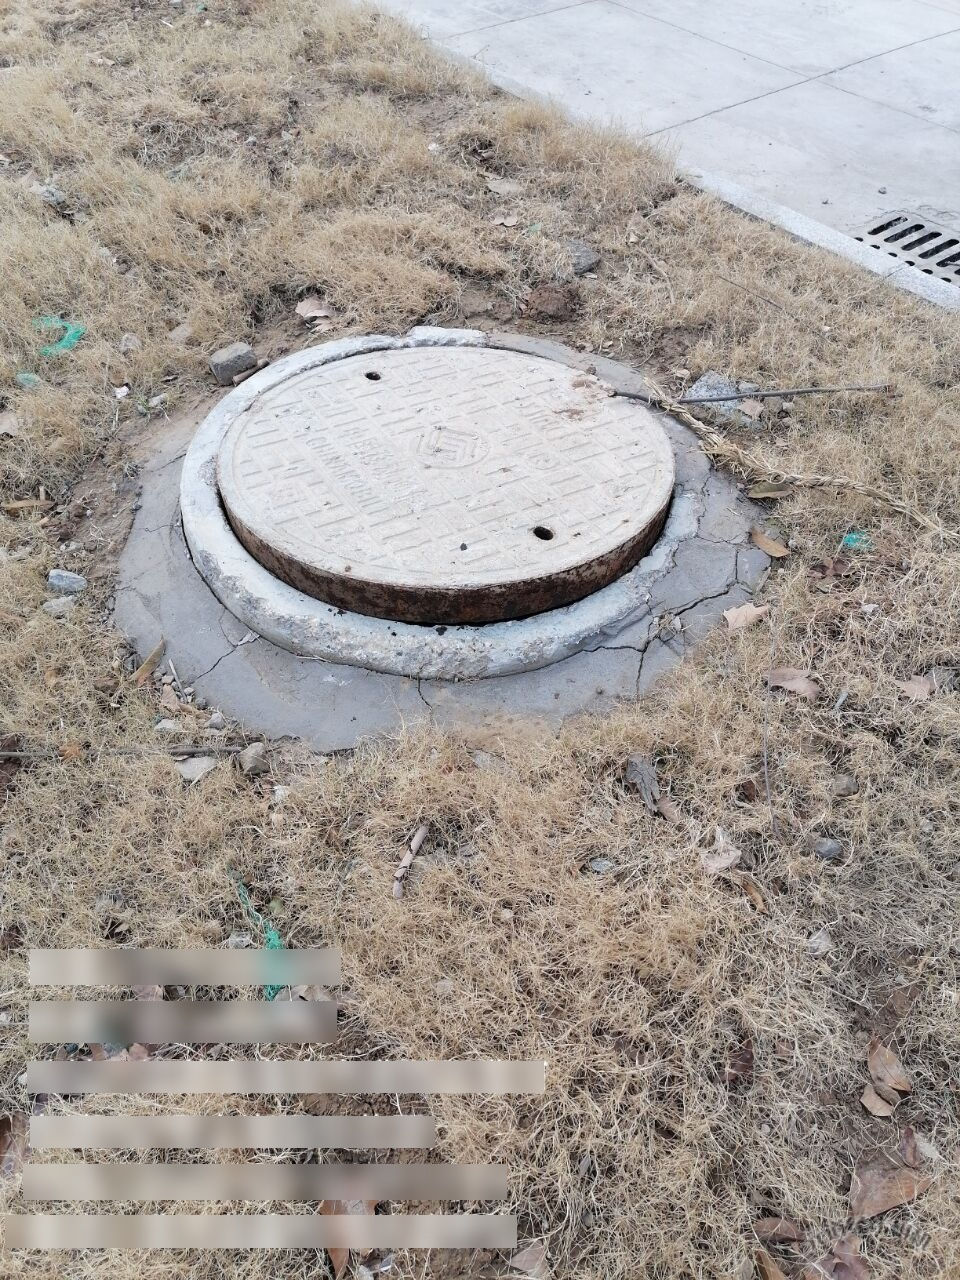uncovered: (179, 329, 703, 687)
